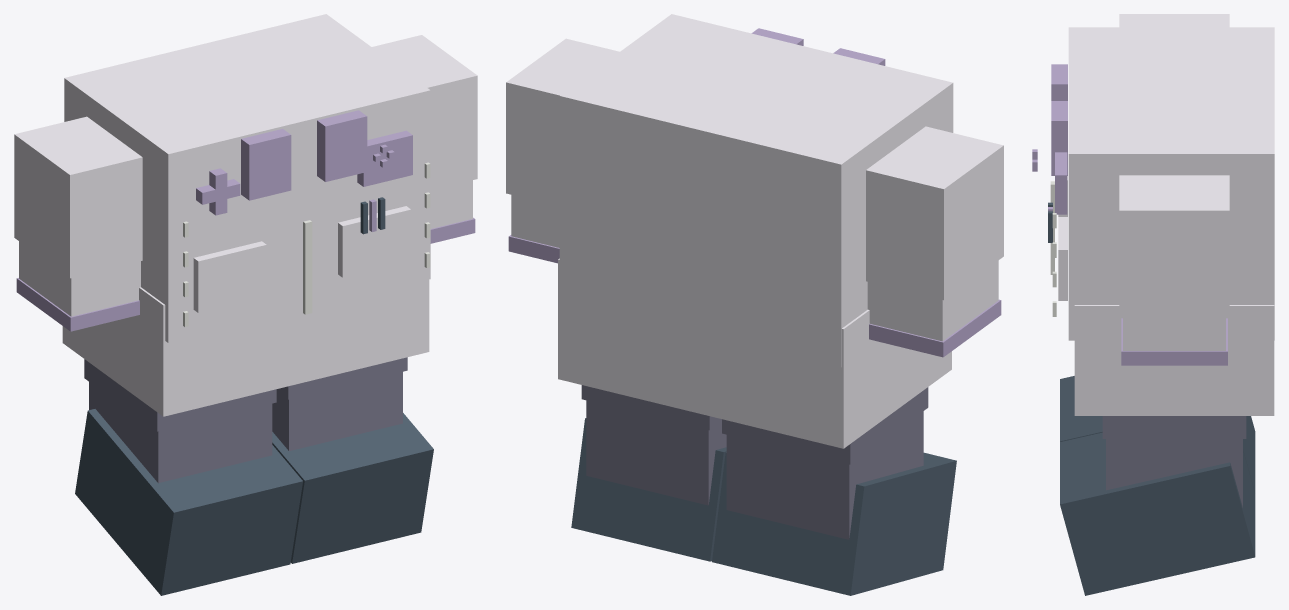
The model's file is pharmacy-lavender.glb.
3 renders of one model, left to right at view 1: azimuth 30°, elevation 25°; view 2: azimuth 150°, elevation 25°; view 3: azimuth 270°, elevation 25°, orthographic. The views are drawn at different scales.
Visible parts, largest first — view 1: jacket, coat-tails, shoe-Right, upper-sleeve-Right, shoe-Left, lower-trouser-Right, upper-sleeve-Left, lower-trouser-Left, lower-sleeve-Right, pocket--1, pocket-1, lapel-1 (+10 smaller); view 2: jacket, coat-tails, upper-sleeve-Right, shoe-Right, lower-trouser-Right, lower-trouser-Left, upper-sleeve-Left, shoe-Left, lower-sleeve-Right, trouser-Right, cuff-Right, lower-sleeve-Left (+2 smaller); view 3: jacket, shoe-Left, coat-tails, upper-sleeve-Left, lower-trouser-Left, lower-sleeve-Left, trouser-Left, shoe-Right, cuff-Left, upper-sleeve-Right, lapel-1, pocket-1 (+2 smaller).
Boxes of the visible parts, x1=… form: jacket: x1=64, y1=14, x2=430, y2=342; coat-tails: x1=62, y1=279, x2=429, y2=416; shoe-Right: x1=75, y1=409, x2=302, y2=595; upper-sleeve-Right: x1=14, y1=116, x2=142, y2=278; shoe-Left: x1=272, y1=413, x2=433, y2=563; lower-trouser-Right: x1=89, y1=382, x2=272, y2=482; upper-sleeve-Left: x1=372, y1=35, x2=477, y2=190; lower-trouser-Left: x1=272, y1=372, x2=402, y2=451; lower-sleeve-Right: x1=19, y1=241, x2=140, y2=316; pocket--1: x1=193, y1=241, x2=266, y2=312; pocket-1: x1=338, y1=206, x2=411, y2=277; lapel-1: x1=317, y1=110, x2=367, y2=181; jacket: x1=559, y1=14, x2=953, y2=367; coat-tails: x1=558, y1=258, x2=951, y2=448; upper-sleeve-Right: x1=866, y1=126, x2=1003, y2=300; shoe-Right: x1=712, y1=452, x2=956, y2=595; lower-trouser-Right: x1=726, y1=411, x2=923, y2=539; lower-trouser-Left: x1=586, y1=400, x2=726, y2=505; upper-sleeve-Left: x1=506, y1=38, x2=619, y2=206; shoe-Left: x1=571, y1=418, x2=726, y2=561; lower-sleeve-Right: x1=867, y1=260, x2=998, y2=341; trouser-Right: x1=722, y1=387, x2=928, y2=464; cuff-Right: x1=869, y1=299, x2=1001, y2=357; lower-sleeve-Left: x1=511, y1=195, x2=559, y2=247; jacket: x1=1068, y1=27, x2=1274, y2=340; shoe-Left: x1=1060, y1=432, x2=1255, y2=595; coat-tails: x1=1074, y1=305, x2=1274, y2=415; upper-sleeve-Left: x1=1119, y1=175, x2=1229, y2=312; lower-trouser-Left: x1=1106, y1=439, x2=1242, y2=507; lower-sleeve-Left: x1=1123, y1=312, x2=1225, y2=350; trouser-Left: x1=1102, y1=416, x2=1246, y2=438; shoe-Right: x1=1060, y1=376, x2=1255, y2=493; cuff-Left: x1=1121, y1=318, x2=1227, y2=365; upper-sleeve-Right: x1=1119, y1=14, x2=1229, y2=27; lapel-1: x1=1051, y1=101, x2=1067, y2=175; pocket-1: x1=1058, y1=217, x2=1067, y2=300.
Size of the model in its own units: 1.07 by 1.13 by 0.559.
